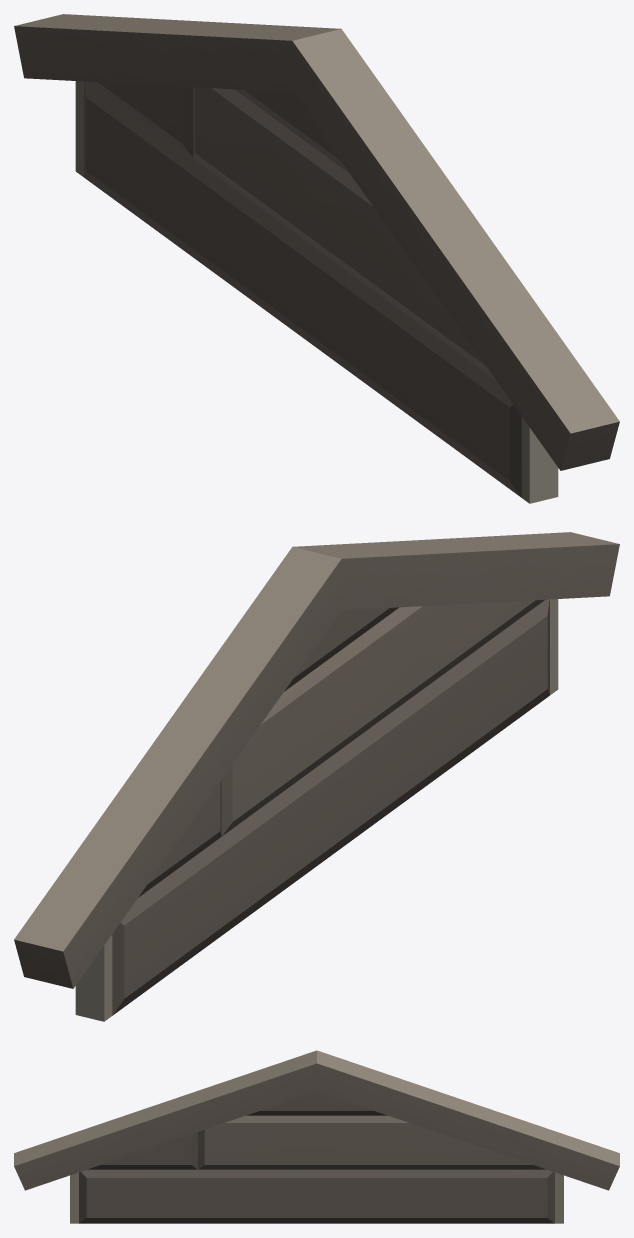
The model's file is TSP_House_Wall_Roof_03B_End.fbx.
The picture shows the model from 3 angles, top to bottom: view 1: azimuth 30°, elevation 25°; view 2: azimuth 150°, elevation 25°; view 3: azimuth 270°, elevation 25°; orthographic projection. The views are drawn at different scales.
Visible parts, largest first — view 1: TSP_House_Wall_Roof_03B_End; view 2: TSP_House_Wall_Roof_03B_End; view 3: TSP_House_Wall_Roof_03B_End.
Part boxes in pixels (x1,y1,x2,y2): TSP_House_Wall_Roof_03B_End: (14,14,619,503); TSP_House_Wall_Roof_03B_End: (14,532,619,1021); TSP_House_Wall_Roof_03B_End: (14,1050,619,1223).
Size of the model in its own units: 0.26 by 1.51 by 5.09.
